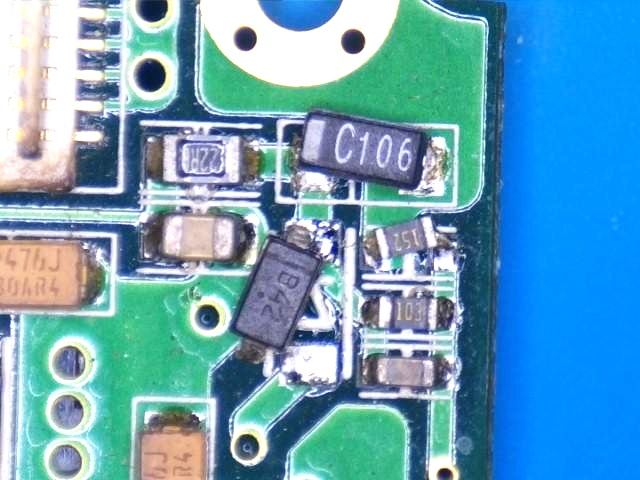pcb_defect: (230, 219, 342, 385), (290, 111, 446, 195), (364, 215, 457, 273)
